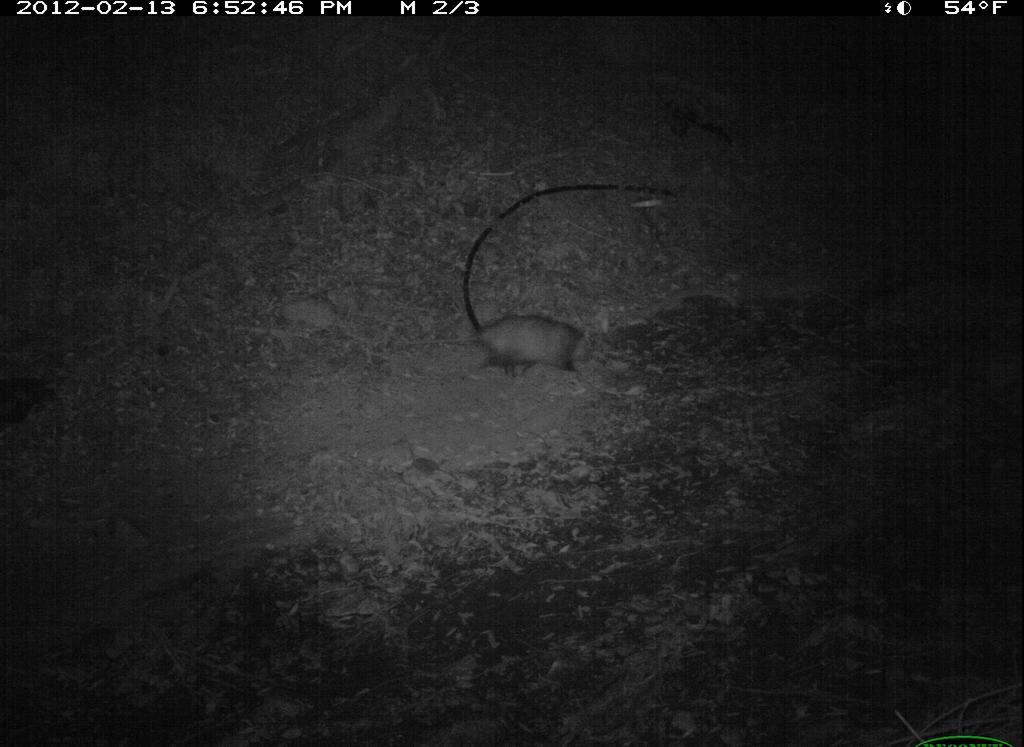opossum: (404, 309, 614, 392)
